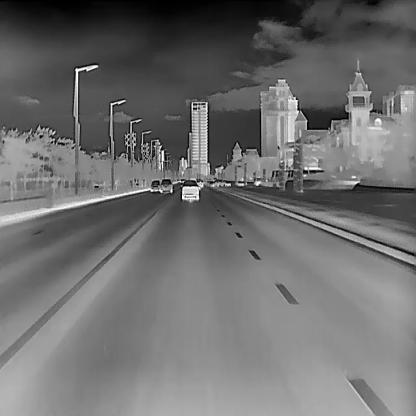car: (180, 180, 199, 201), (159, 178, 171, 192), (209, 179, 224, 188), (149, 180, 160, 192), (194, 177, 203, 189), (251, 177, 263, 185)
